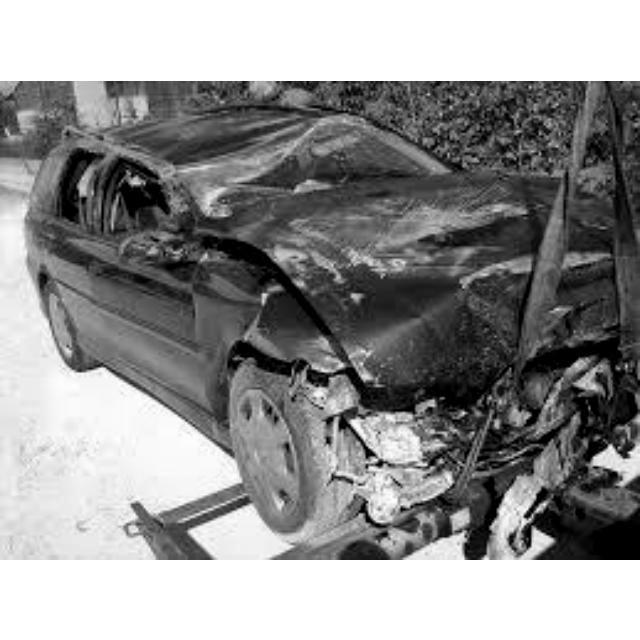Headlight-damage: (339, 357, 447, 487)
bonnet-dent: (235, 175, 536, 310)
fender-dent: (196, 260, 326, 376)
roof-dent: (89, 90, 311, 166)
